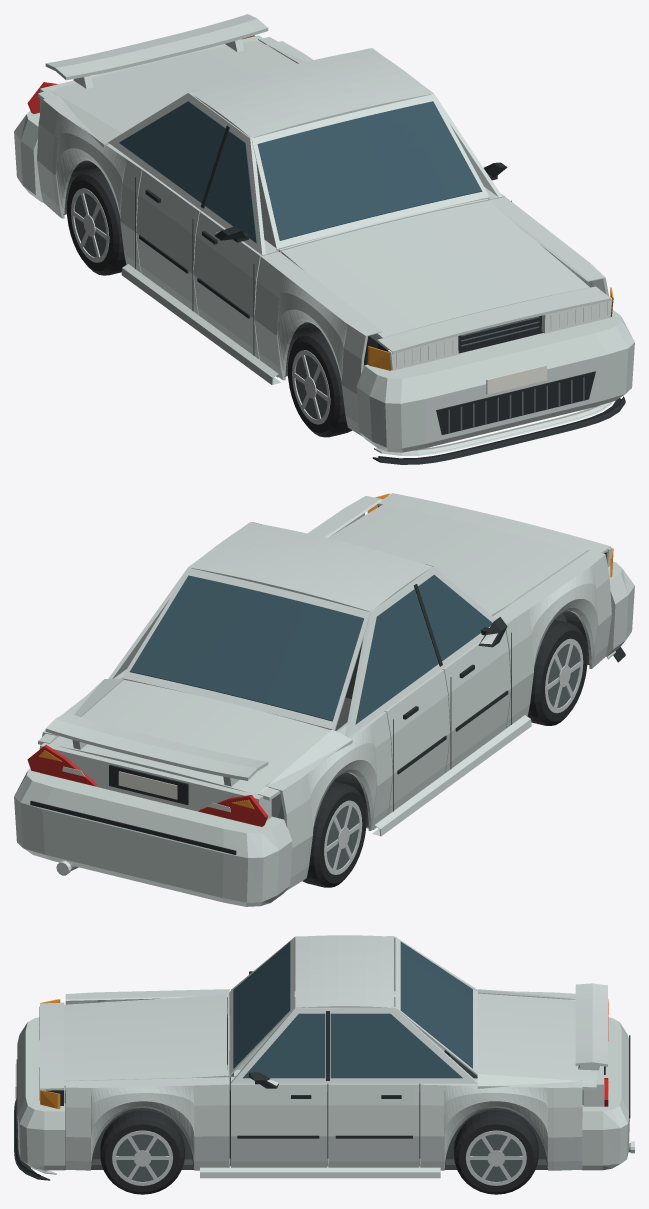
The model's file is banwa_dalagan_1996_modular.glb.
The picture shows the model from 3 angles, top to bottom: view 1: azimuth 30°, elevation 25°; view 2: azimuth 150°, elevation 25°; view 3: azimuth 270°, elevation 25°; orthographic projection. The views are drawn at different scales.
Parts seen in each view (by area): view 1: shell_base, bumper_front_stock, hood_stock, windshield, fender_fr_stock, trunk_stock, window_rear_-1, spoiler_rear_stock, wheel_fr, wheel_rr, nose_top, window_front_-1 (+8 smaller); view 2: shell_base, bumper_rear_stock, rear_glass, trunk_stock, hood_stock, fender_fr_stock, window_rear_-1, spoiler_rear_stock, wheel_rr, wheel_fr, rear_panel, window_front_-1 (+8 smaller); view 3: shell_base, hood_stock, fender_fl_stock, trunk_stock, window_rear_1, wheel_rl, wheel_fl, rear_glass, bumper_front_stock, bumper_rear_stock, windshield, window_front_1 (+7 smaller).
Part boxes in pixels (box(x1,y1,x2,y2)): shell_base: box(37, 37, 504, 377); bumper_front_stock: box(356, 310, 634, 452); hood_stock: box(281, 200, 589, 338); windshield: box(257, 101, 482, 240); fender_fr_stock: box(254, 251, 382, 436); trunk_stock: box(53, 41, 296, 133); window_rear_-1: box(119, 101, 225, 202); spoiler_rear_stock: box(45, 14, 268, 88); wheel_fr: box(287, 331, 351, 437); wheel_rr: box(66, 169, 126, 275); nose_top: box(377, 286, 610, 354); window_front_-1: box(205, 131, 256, 243); shell_base: box(38, 522, 590, 890); bumper_rear_stock: box(14, 768, 292, 906); rear_glass: box(129, 575, 363, 721); trunk_stock: box(52, 680, 330, 793); hood_stock: box(328, 504, 582, 615); fender_fr_stock: box(492, 550, 611, 728); window_rear_-1: box(355, 589, 438, 724); spoiler_rear_stock: box(45, 712, 268, 786); wheel_rr: box(302, 781, 366, 887); wheel_fr: box(527, 619, 587, 725); rear_panel: box(40, 742, 271, 826); window_front_-1: box(418, 575, 492, 661); shell_base: box(64, 935, 596, 1170); hood_stock: box(64, 994, 226, 1087); fender_fl_stock: box(65, 1077, 229, 1170); trunk_stock: box(477, 993, 597, 1081); window_rear_1: box(330, 1013, 462, 1078); wheel_rl: box(454, 1110, 538, 1194); wheel_fl: box(100, 1110, 184, 1194); rear_glass: box(400, 941, 472, 1068); bumper_front_stock: box(15, 1017, 65, 1170); bumper_rear_stock: box(582, 1017, 630, 1170); windshield: box(233, 941, 290, 1068); window_front_1: box(243, 1013, 325, 1078).
Size of the model in its own units: 1.83 by 1.39 by 4.39.
